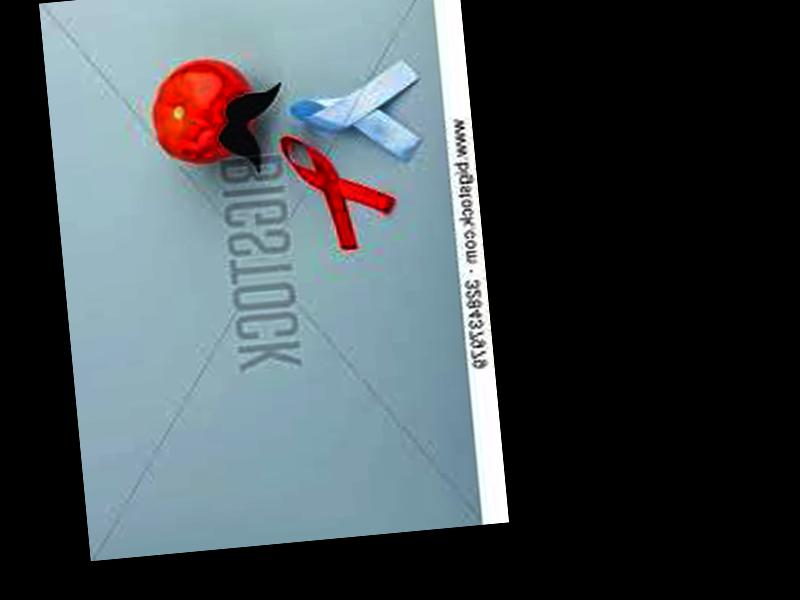Tomato: (147, 56, 259, 168)
